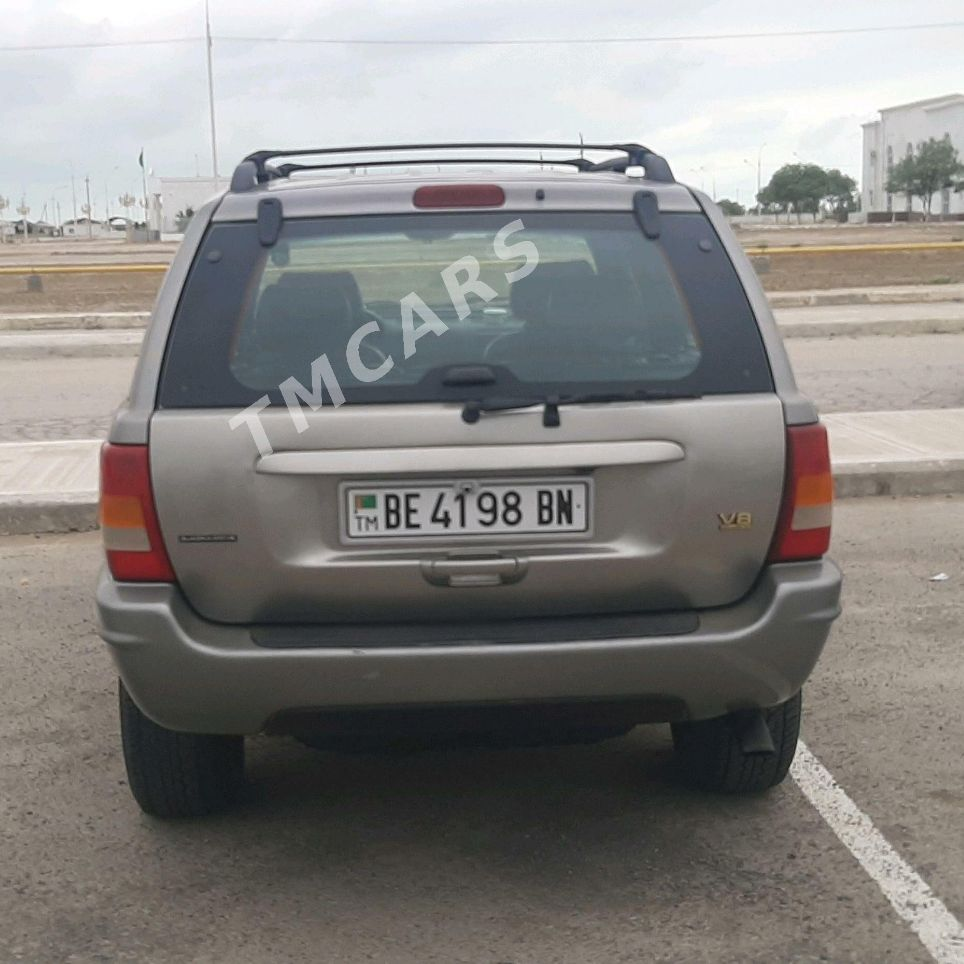license plate: (343, 485, 589, 536)
truck: (96, 141, 850, 827)
